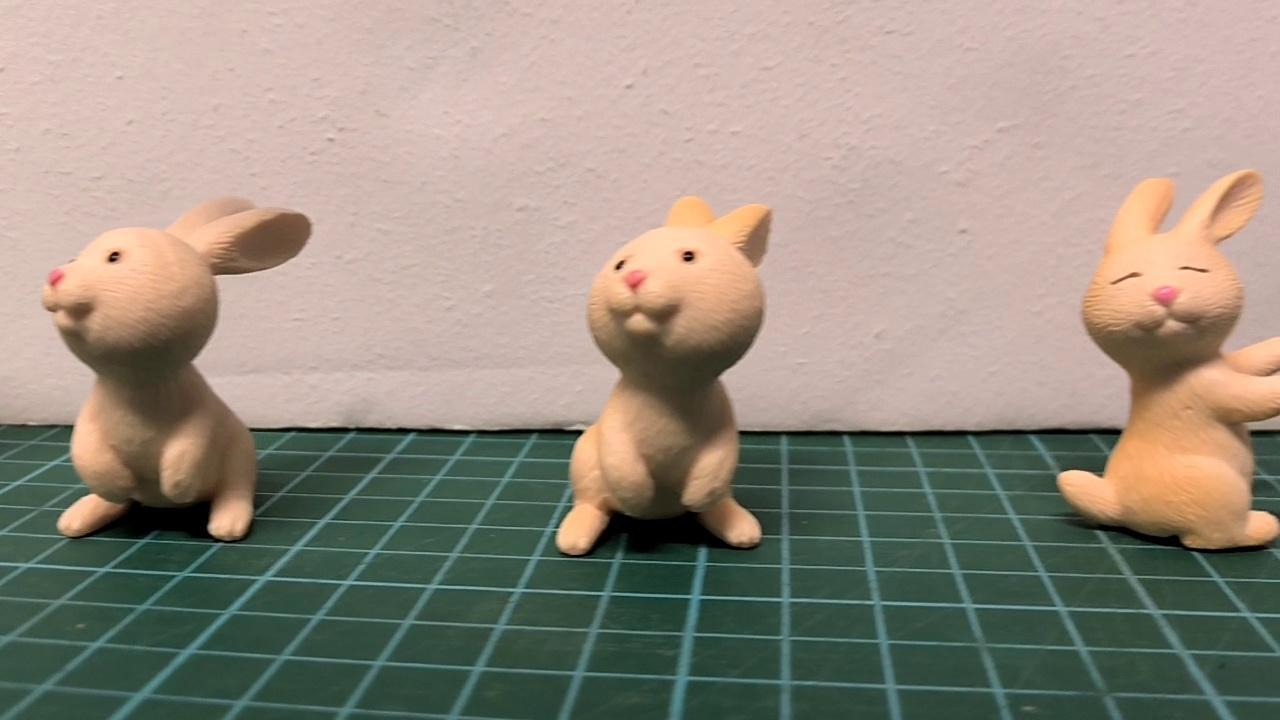pet: (41, 197, 313, 541), (1056, 167, 1280, 555), (555, 196, 773, 557)
